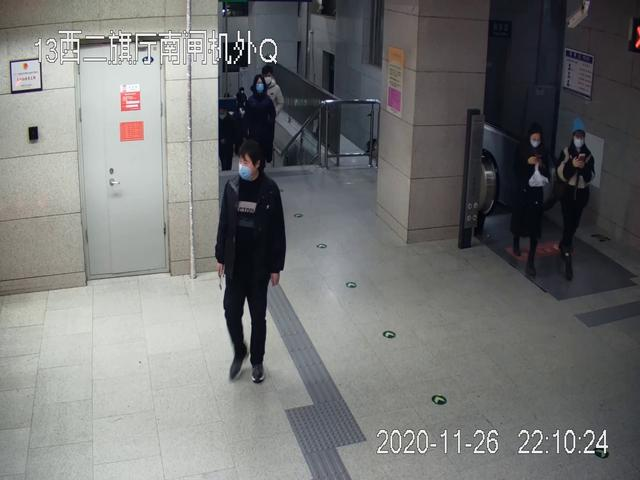person: (216, 143, 287, 383), (551, 119, 596, 280), (514, 129, 552, 270), (246, 73, 276, 186)
